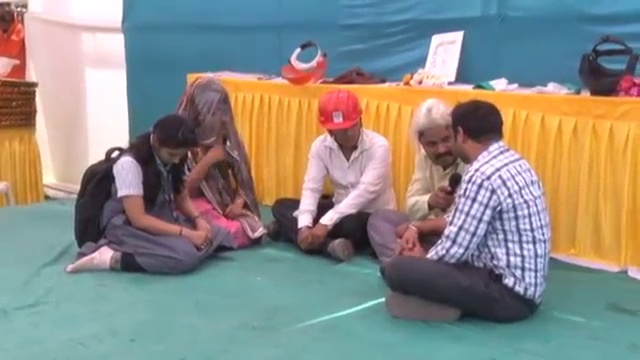helmet: (313, 92, 367, 132), (0, 54, 22, 79)
helmet_off: (180, 79, 233, 154), (450, 100, 506, 169), (141, 113, 201, 173), (410, 99, 458, 166), (0, 0, 27, 26)
helmet_on: (313, 86, 366, 149)
person: (382, 96, 555, 323), (66, 113, 222, 278), (265, 81, 398, 262), (367, 96, 472, 260), (170, 77, 264, 249), (0, 2, 31, 80)
